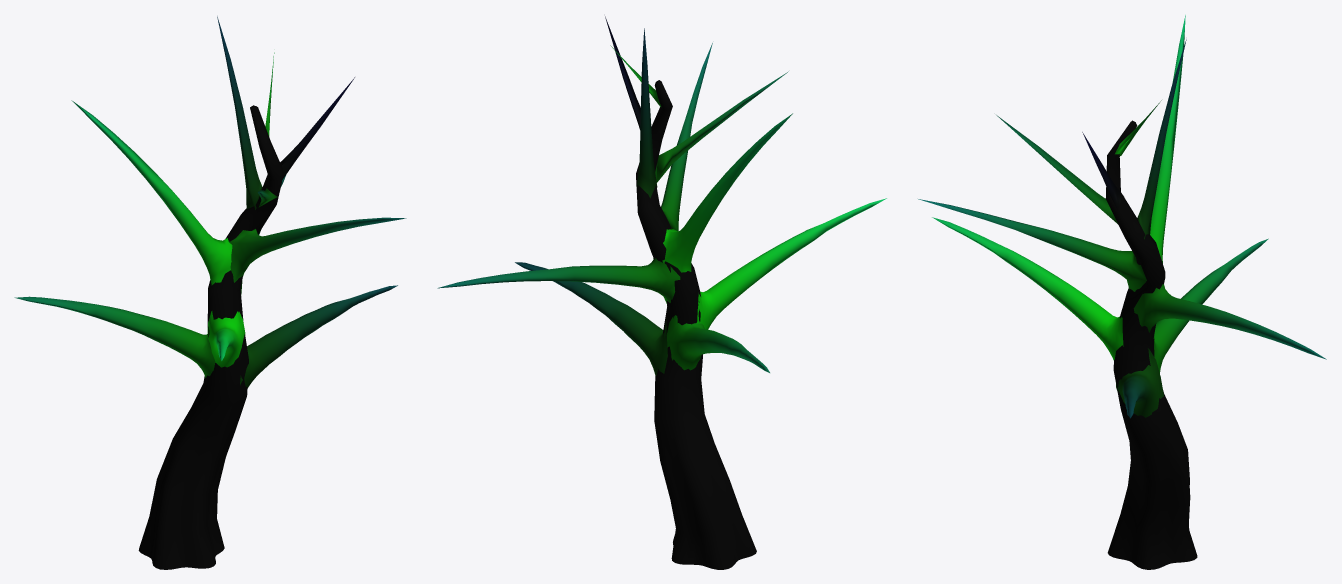
File: SM_DeadTree.fbx
3 renders of one model, left to right at view 1: azimuth 30°, elevation 25°; view 2: azimuth 150°, elevation 25°; view 3: azimuth 270°, elevation 25°, orthographic. The views are drawn at different scales.
Parts seen in each view (by area): view 1: Tree_0; view 2: Tree_0; view 3: Tree_0.
Part boxes in pixels (<box>): Tree_0: <box>14,16,406,569</box>; Tree_0: <box>437,16,886,569</box>; Tree_0: <box>918,15,1326,569</box>.
Size of the model in its own units: 154 by 238 by 165.
